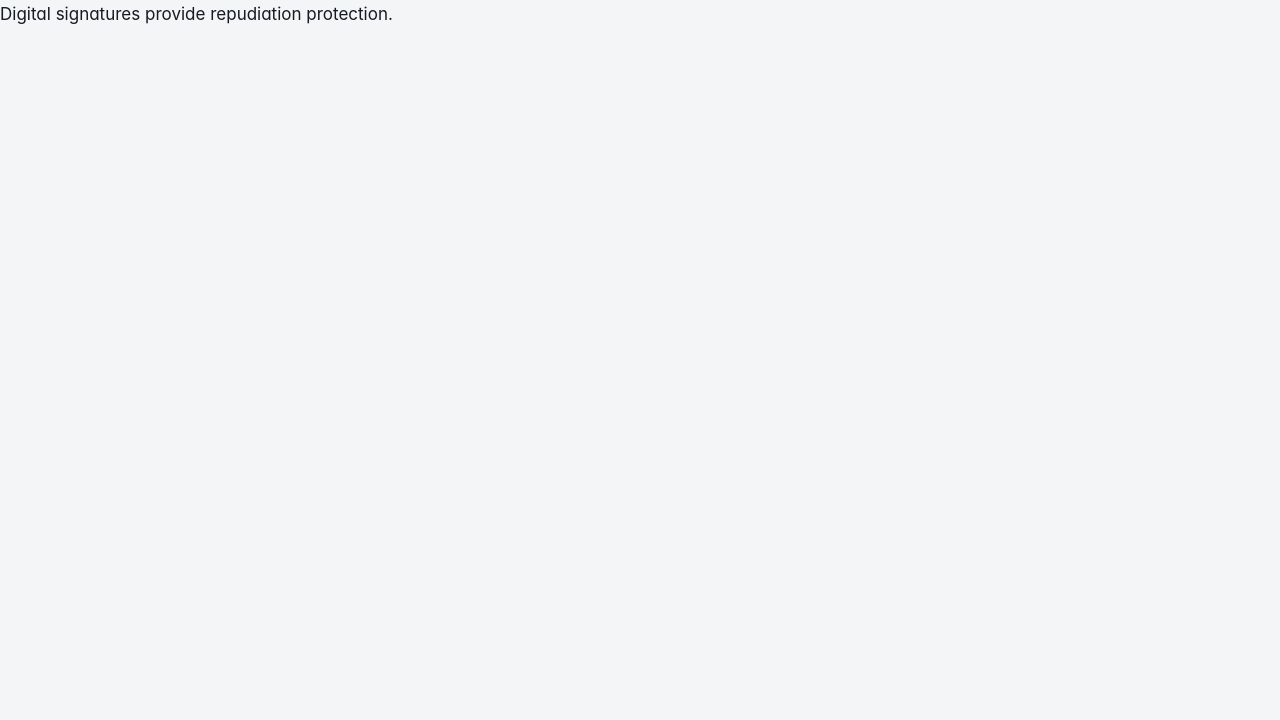
Test: glossary popover › opens with the toggle on, shows the entry and adds the word as vocabulary
This screenshot has width=1280, height=720.
# Keyboard reachable: the words of the active block are buttons.
Click the button "repudiation" at x=256, y=14, box [210, 4, 302, 24]
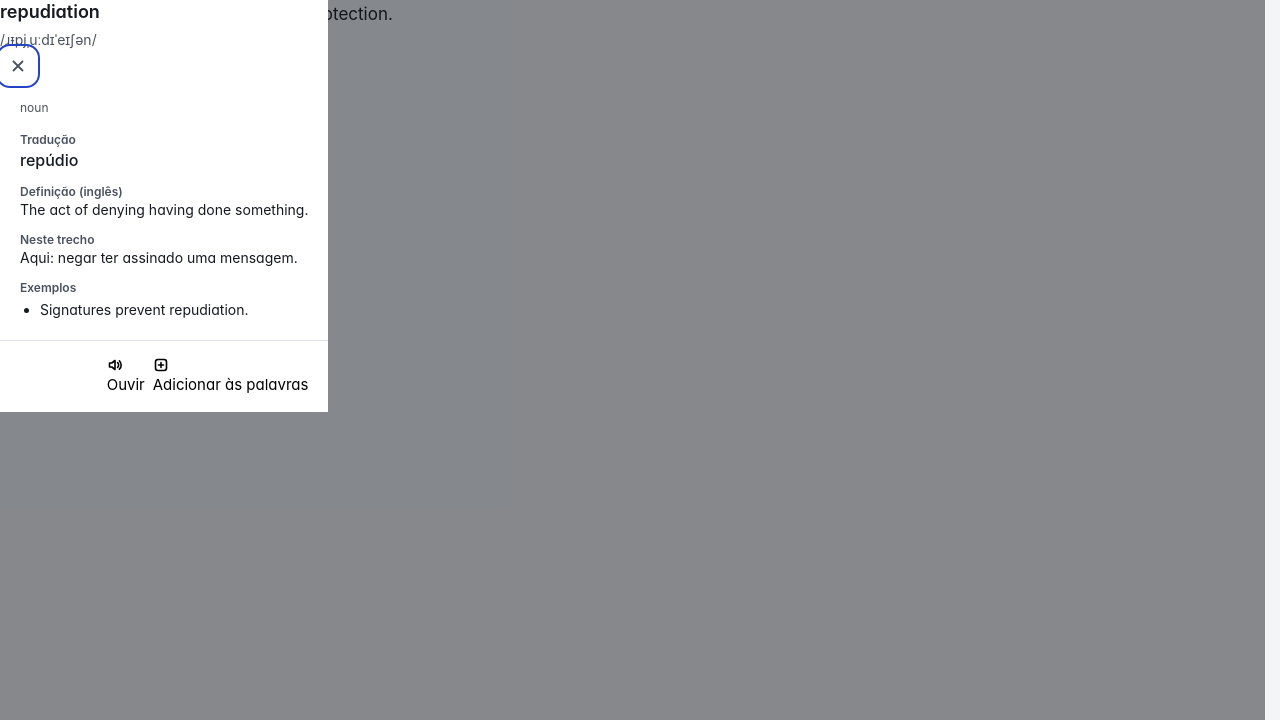
Check: the text "repúdio" is shown, box [20, 150, 78, 170]
Check: the dialog shows "/ɹᵻpjˌuːdɪˈeɪʃən/", box [0, 0, 328, 412]
Check: the dialog shows "The act of denying having done something.", box [20, 200, 308, 218]
Click the button "Adicionar às palavras" at x=231, y=376, box [153, 356, 308, 396]
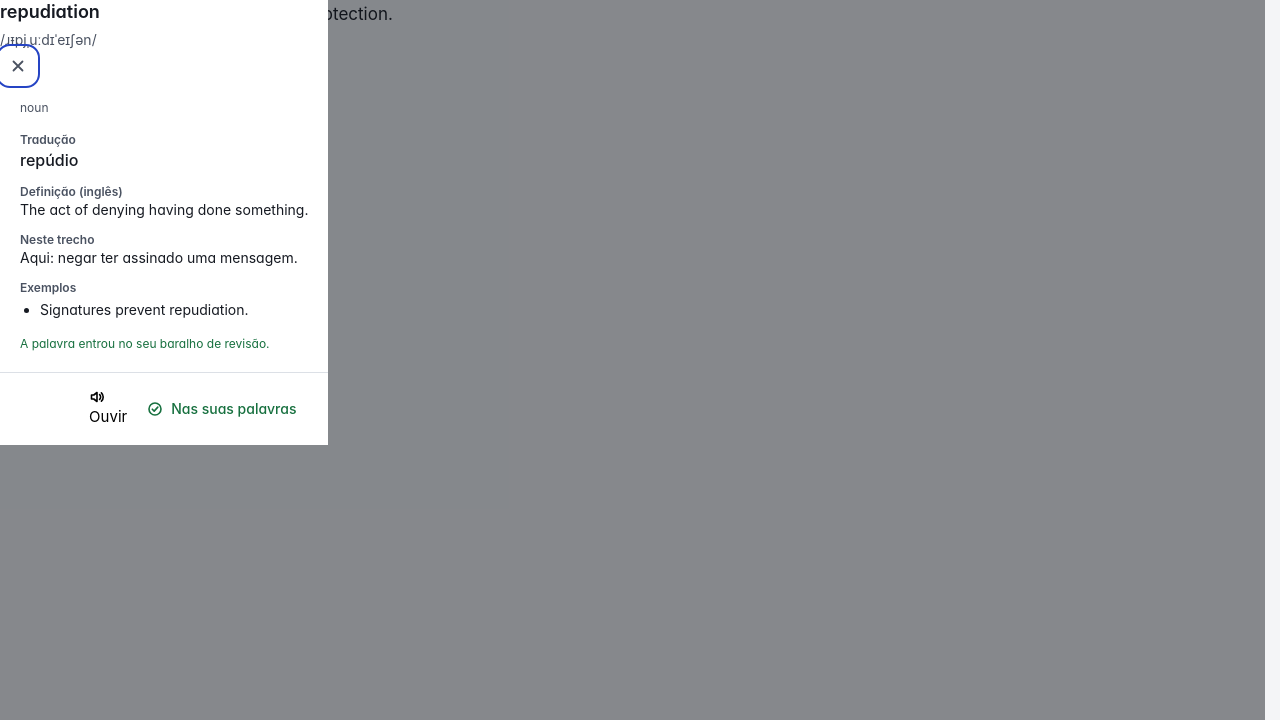
Check: the link "Nas suas palavras" is shown, box [147, 400, 296, 416]
